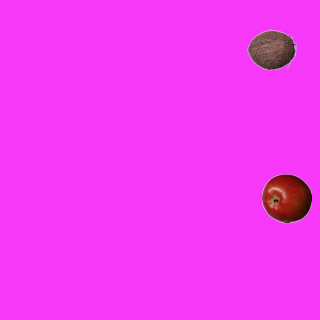Apple Braeburn: (261, 173, 311, 223)
Cocos: (246, 24, 296, 74)
